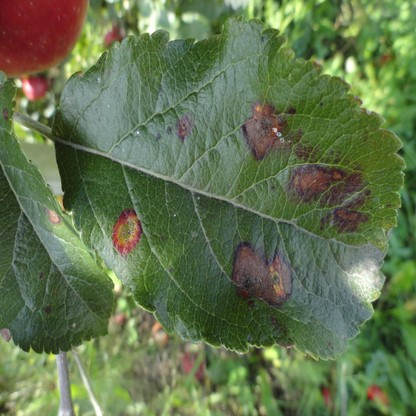rust: (292, 170, 369, 228), (236, 242, 294, 300), (245, 106, 282, 161), (112, 211, 140, 251), (179, 116, 190, 134), (48, 208, 60, 224)
